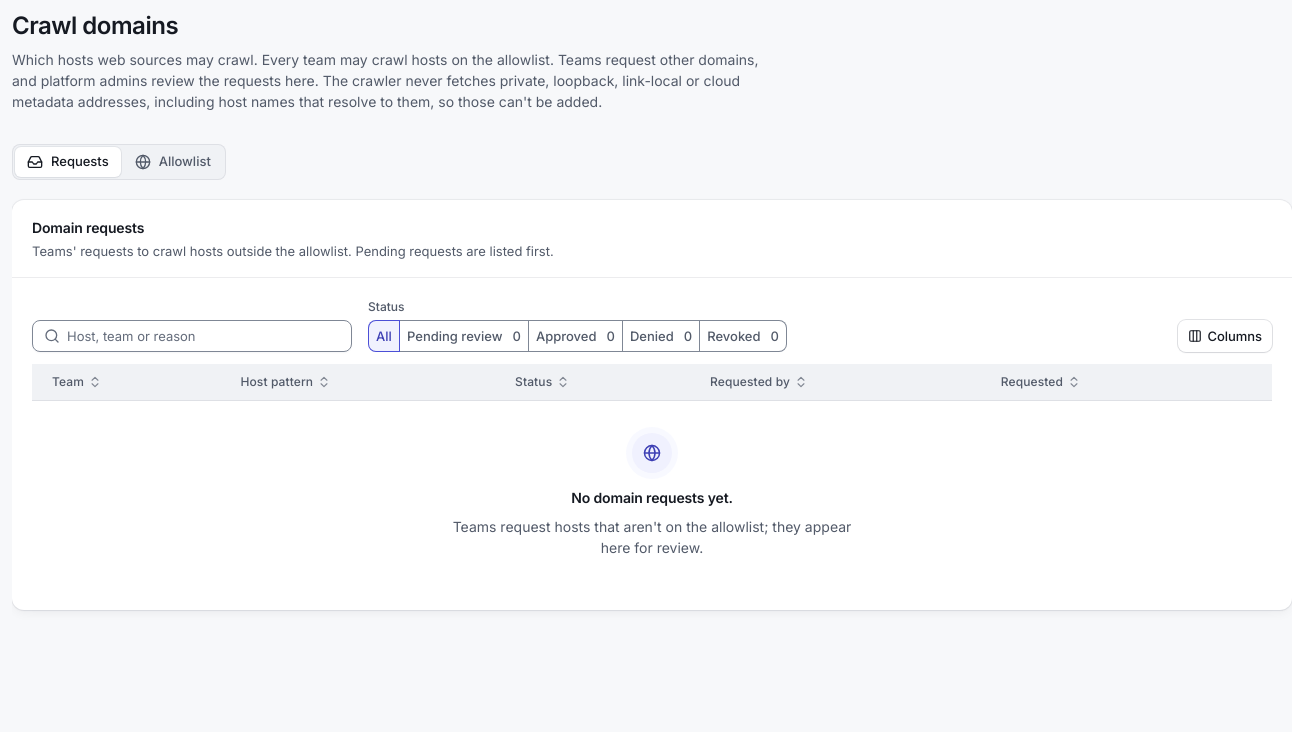
the date rule (G13) › the crawl allowlist shows when an entry was added, relatively
Click the tab "Allowlist": (173, 162) [123,147,223,177]
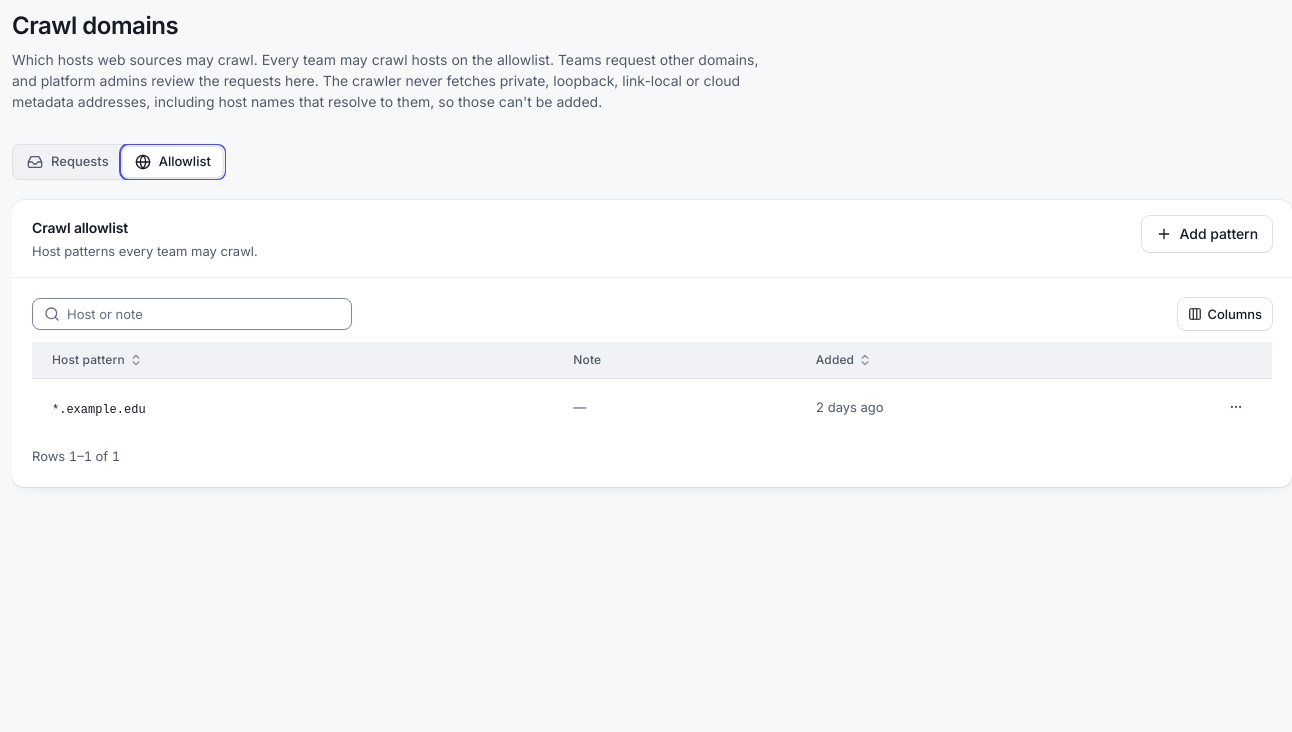
Expected: the text "2 days ago" is shown, [816,398,884,414]
